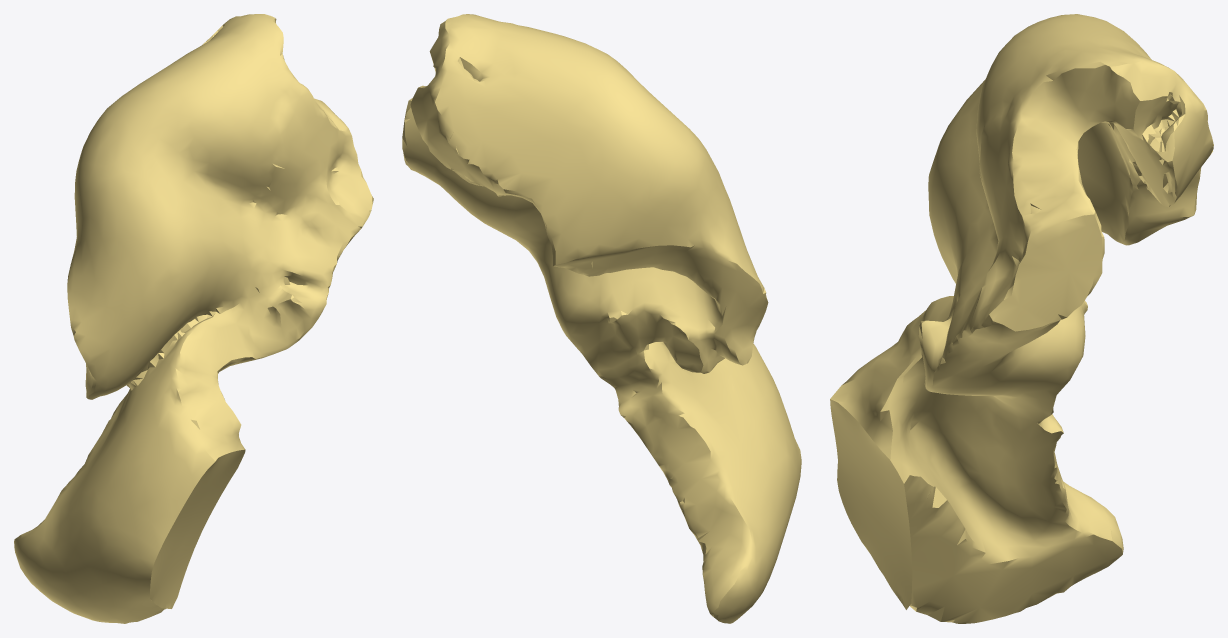
File: fma72752_mm3127m.glb
3 views of the same model, side by side, from view 1: azimuth 30°, elevation 25°; view 2: azimuth 150°, elevation 25°; view 3: azimuth 270°, elevation 25° (orthographic). The views are drawn at different scales.
Visible parts, largest first — view 1: FMA72752_MM3127M; view 2: FMA72752_MM3127M; view 3: FMA72752_MM3127M.
Part boxes in pixels (left/top/right/bottom): FMA72752_MM3127M: left=14, top=14, right=373, bottom=623; FMA72752_MM3127M: left=402, top=14, right=801, bottom=623; FMA72752_MM3127M: left=830, top=14, right=1213, bottom=623.
Bounding box in the file's own units: 0.0252 × 0.0387 × 0.0193.
